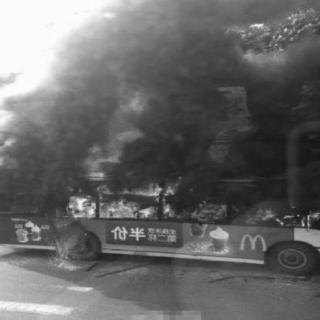Fire: (65, 163, 313, 230)
Smoke: (12, 0, 311, 196)
